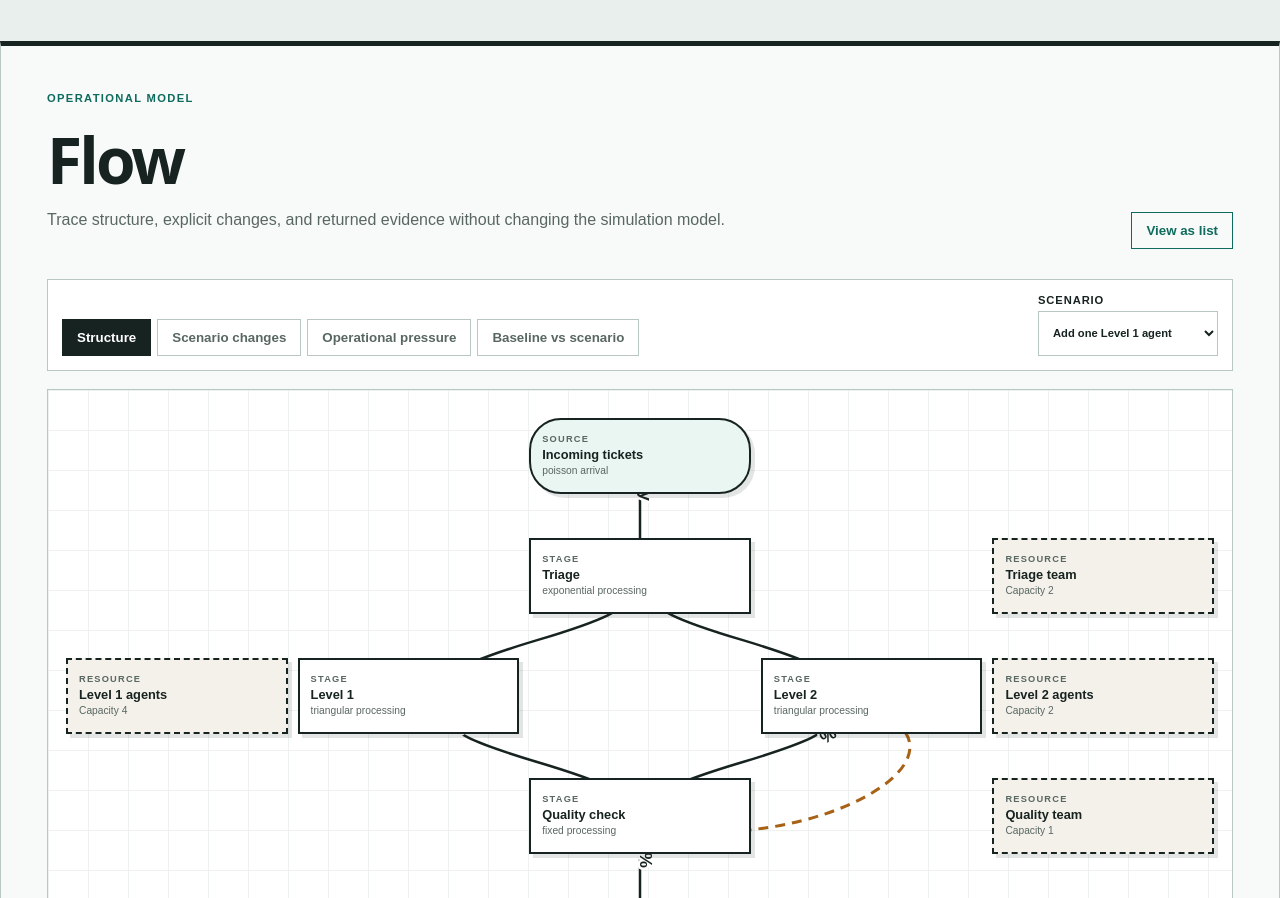
workflow visualization › provides a visible list mode and avoids restricted product language
The width and height of the screenshot is (1280, 898).
Click the button "View as list" at (1182,230), box [1131, 212, 1233, 249]
(page scrolled)
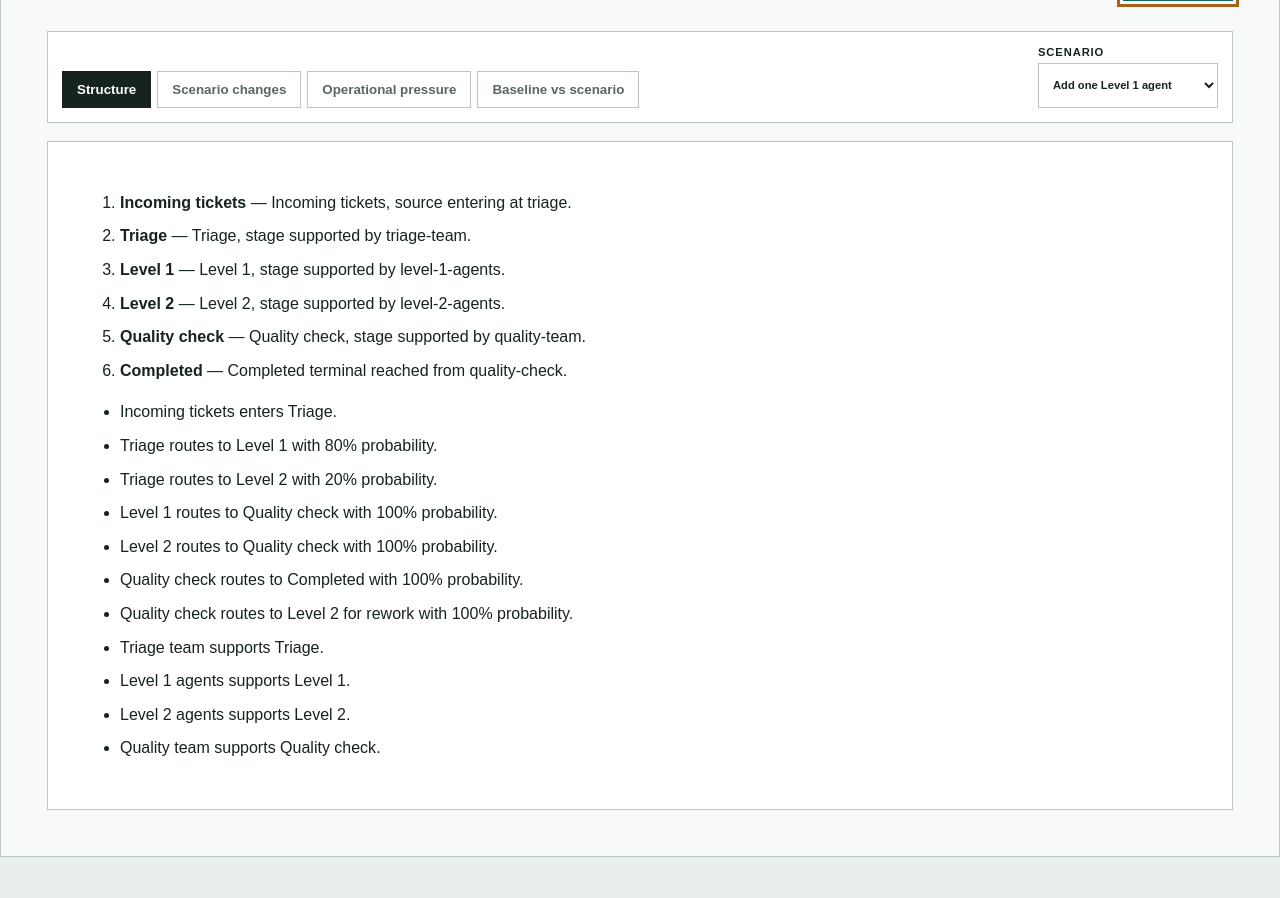
Expected: the element named "Workflow list view" is shown
